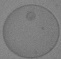small: (25, 11, 36, 21)
